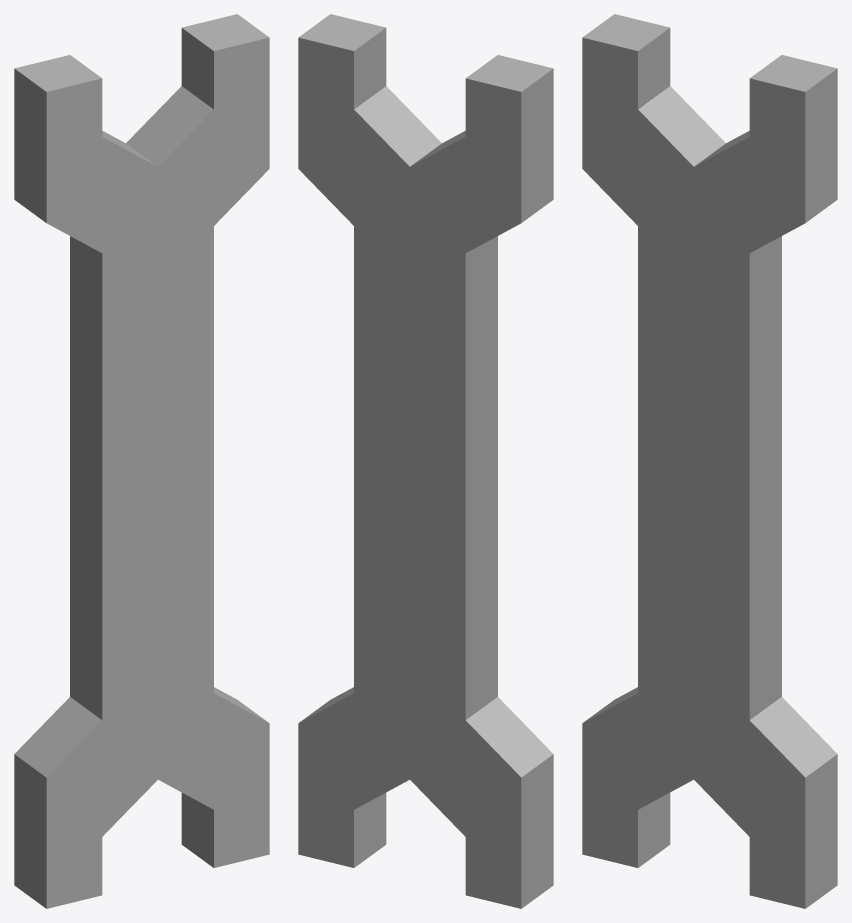
Rendered from MNM_CW.obj.
The picture shows the model from 3 angles, left to right: view 1: azimuth 30°, elevation 25°; view 2: azimuth 150°, elevation 25°; view 3: azimuth 330°, elevation 25°; orthographic projection.
Visible parts, largest first — view 1: Cube_Cube.001, Cube.004_Cube.015, Cube.003_Cube.013, Cube.002_Cube.014; view 2: Cube_Cube.001, Cube.004_Cube.015, Cube.003_Cube.013, Cube.002_Cube.014; view 3: Cube_Cube.001, Cube.003_Cube.013, Cube.002_Cube.014, Cube.004_Cube.015.
Part boxes in pixels (box(x1,y1,x2,y2)): Cube_Cube.001: box(14, 14, 269, 908); Cube.004_Cube.015: box(126, 86, 213, 181); Cube.003_Cube.013: box(14, 131, 157, 252); Cube.002_Cube.014: box(214, 154, 269, 225); Cube_Cube.001: box(298, 14, 553, 908); Cube.004_Cube.015: box(354, 86, 441, 181); Cube.003_Cube.013: box(410, 131, 553, 252); Cube.002_Cube.014: box(298, 154, 353, 225); Cube_Cube.001: box(582, 14, 837, 908); Cube.003_Cube.013: box(582, 86, 725, 225); Cube.002_Cube.014: box(749, 185, 837, 252); Cube.004_Cube.015: box(694, 131, 749, 194).
Bounding box in the file's own units: 8 × 28 × 2.
2 materials, 2 textured.
